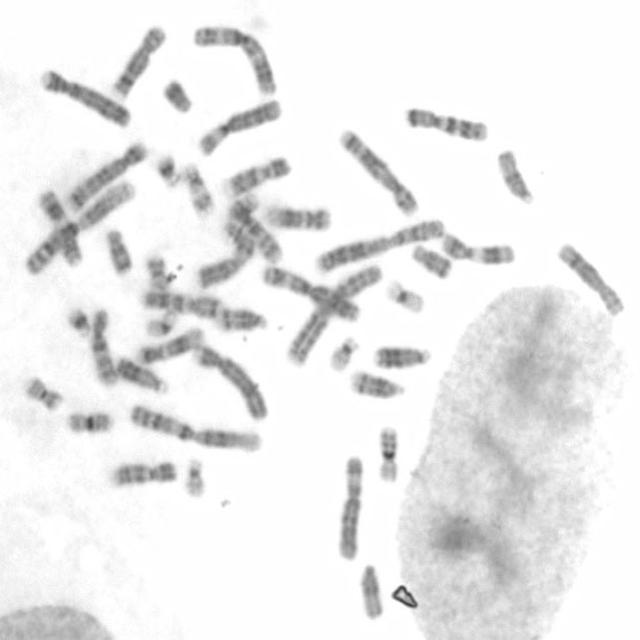A1: (20, 174, 137, 276), (124, 398, 264, 455)
A2: (281, 256, 384, 368), (310, 213, 448, 276)
A3: (190, 19, 278, 96), (258, 261, 362, 324)
B4: (35, 63, 133, 130), (190, 340, 270, 422)
B5: (334, 122, 421, 218), (62, 137, 149, 214)
C10: (218, 195, 284, 269), (86, 296, 122, 388)
C11: (33, 183, 84, 268), (438, 228, 518, 266)
C12: (132, 323, 205, 365), (260, 196, 334, 232)
C6: (193, 93, 284, 157), (332, 451, 366, 564)
C7: (400, 101, 490, 143), (137, 289, 225, 322)
C8: (553, 238, 626, 317), (109, 20, 166, 100)
C9: (218, 150, 294, 200), (104, 455, 179, 490)
D13: (110, 350, 170, 396), (368, 340, 432, 371)
D14: (344, 364, 406, 402), (212, 304, 270, 335)
D15: (493, 144, 537, 206), (356, 559, 386, 620)
E16: (372, 420, 402, 486), (63, 407, 114, 436)
E17: (178, 154, 216, 220), (218, 188, 262, 244)
E18: (406, 239, 454, 281), (101, 223, 135, 276)
F19: (380, 274, 426, 316), (141, 305, 178, 339)
F20: (18, 371, 65, 414), (141, 251, 171, 295)
G21: (150, 149, 183, 189), (62, 302, 92, 339)
G22: (324, 331, 360, 373), (180, 453, 208, 499)
X: (190, 221, 258, 291)
Y: (158, 74, 196, 115)
